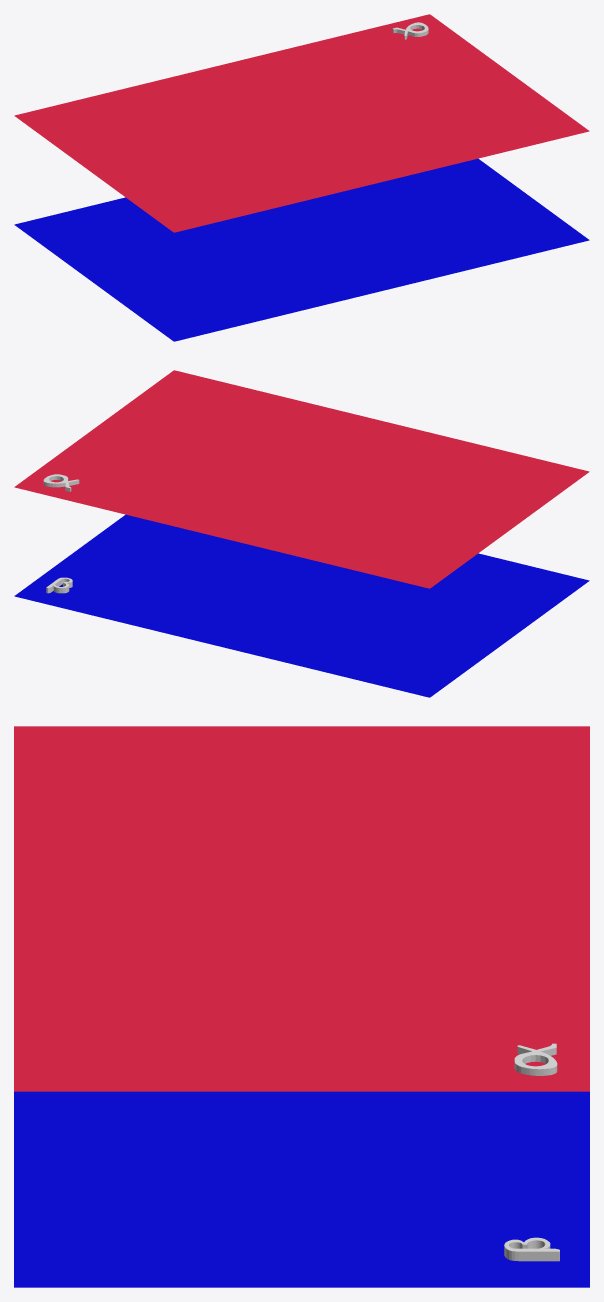
Rendered from planos_paralelos.glb.
The picture shows the model from 3 angles, top to bottom: view 1: azimuth 30°, elevation 25°; view 2: azimuth 150°, elevation 25°; view 3: azimuth 270°, elevation 25°; orthographic projection. The views are drawn at different scales.
Visible parts, largest first — view 1: plano_alfa_IndexedFaceSet, plano_beta_IndexedFaceSet; view 2: plano_alfa_IndexedFaceSet, plano_beta_IndexedFaceSet; view 3: plano_alfa_IndexedFaceSet, plano_beta_IndexedFaceSet, letra_beta_IndexedFaceSet, letra_alfa_IndexedFaceSet.
Boxes of the visible parts, bbox=[...] form: plano_alfa_IndexedFaceSet: bbox=[14, 14, 589, 232]; plano_beta_IndexedFaceSet: bbox=[14, 158, 589, 341]; plano_alfa_IndexedFaceSet: bbox=[14, 370, 589, 588]; plano_beta_IndexedFaceSet: bbox=[14, 514, 589, 697]; plano_alfa_IndexedFaceSet: bbox=[14, 726, 589, 1091]; plano_beta_IndexedFaceSet: bbox=[14, 1091, 589, 1287]; letra_beta_IndexedFaceSet: bbox=[504, 1237, 559, 1261]; letra_alfa_IndexedFaceSet: bbox=[514, 1043, 557, 1075].
Size of the model in its own units: 4.5 by 1.17 by 3.
